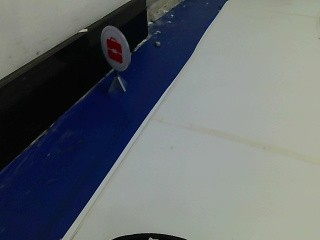company: (93, 21, 134, 74)
